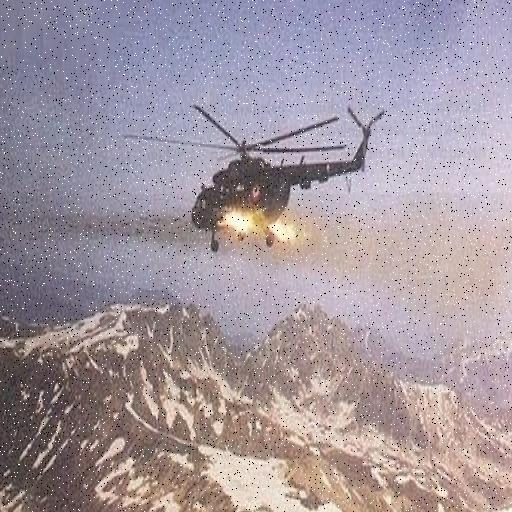helicopter: (122, 92, 394, 256)
